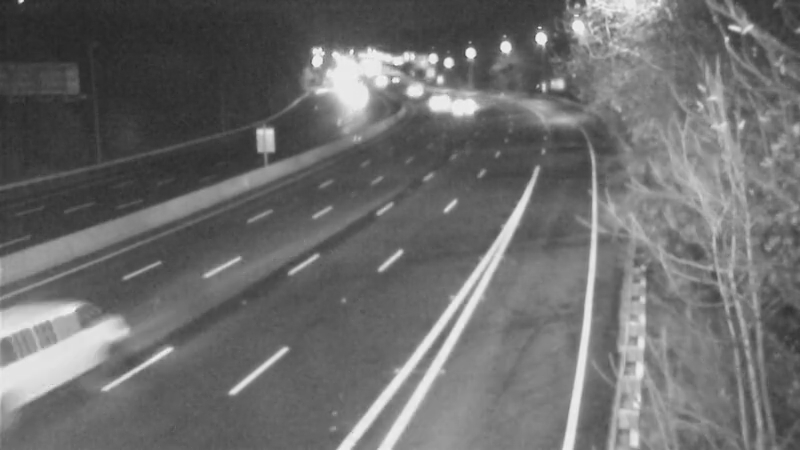vehicle: (1, 287, 105, 397), (386, 64, 436, 114), (413, 76, 463, 126), (439, 82, 489, 132)
